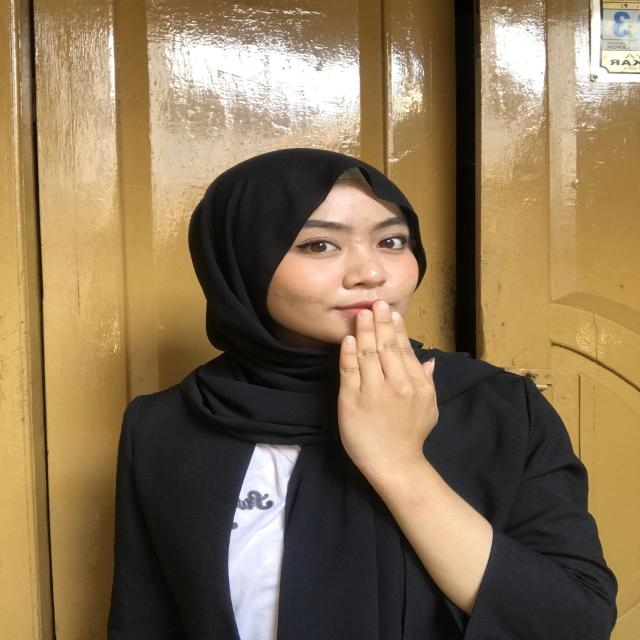ganteng: (310, 295, 466, 480)
